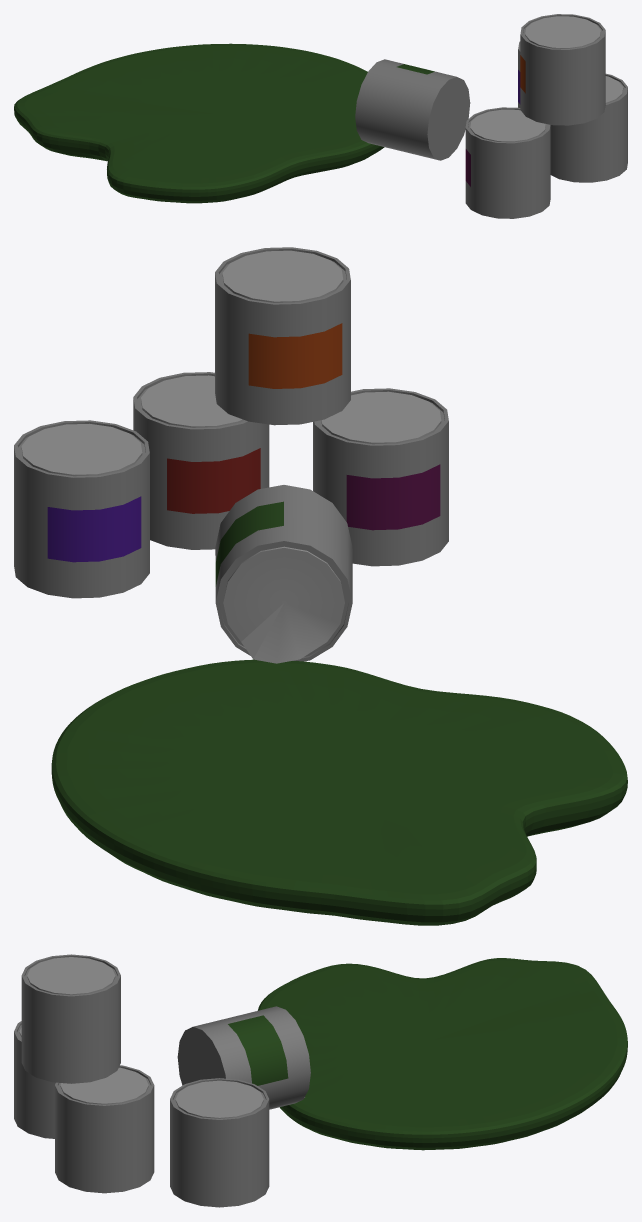
The model's file is paint.glb.
3 renders of one model, top to bottom at view 1: azimuth 30°, elevation 25°; view 2: azimuth 150°, elevation 25°; view 3: azimuth 270°, elevation 25°, orthographic. The views are drawn at different scales.
Parts seen in each view (by area): view 1: paint spill, green spilled paint can, orange paint can, purple paint can, red paint can; view 2: paint spill, blue paint can, orange paint can, green spilled paint can, purple paint can, red paint can; view 3: paint spill, blue paint can, orange paint can, red paint can, green spilled paint can, purple paint can.
Part boxes in pixels (<box>): paint spill: <box>14,43,384,203</box>; green spilled paint can: <box>355,59,470,160</box>; orange paint can: <box>520,14,605,125</box>; purple paint can: <box>465,107,550,218</box>; red paint can: <box>550,73,627,182</box>; paint spill: <box>51,659,627,925</box>; blue paint can: <box>14,420,149,598</box>; orange paint can: <box>215,247,350,425</box>; green spilled paint can: <box>215,485,352,663</box>; purple paint can: <box>313,388,448,566</box>; red paint can: <box>133,372,269,549</box>; paint spill: <box>257,958,627,1150</box>; blue paint can: <box>170,1078,269,1207</box>; orange paint can: <box>21,954,120,1083</box>; red paint can: <box>55,1065,154,1193</box>; green spilled paint can: <box>177,1006,310,1109</box>; purple paint can: <box>14,1021,55,1138</box>.
Bounding box in the file's own units: 2.11 × 0.8152 × 2.2.
